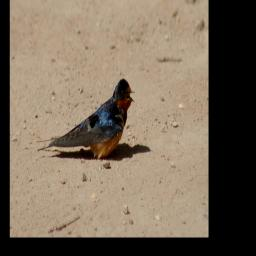Swallow: (37, 77, 135, 157)
